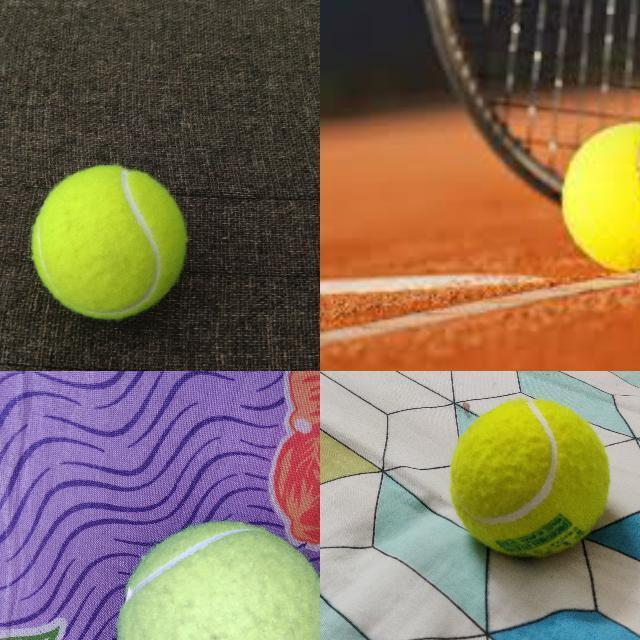tennis-ball: (449, 398, 609, 556), (113, 520, 319, 639), (31, 164, 188, 320), (557, 119, 639, 274)
